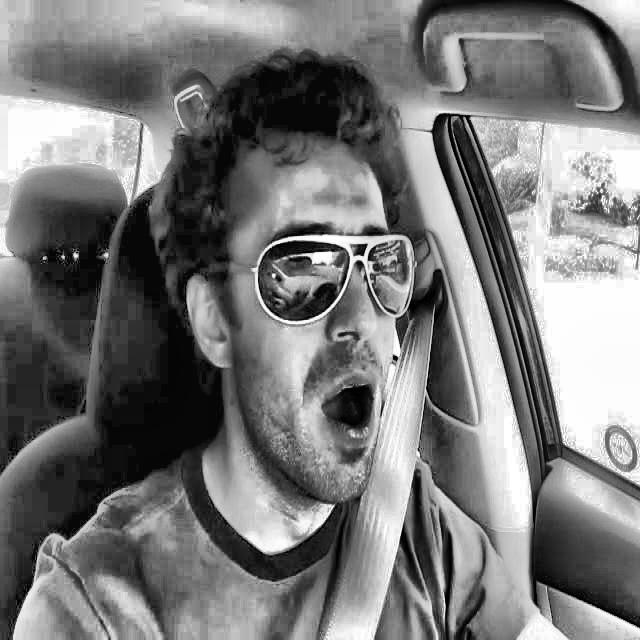open_mouth: (304, 362, 401, 465)
